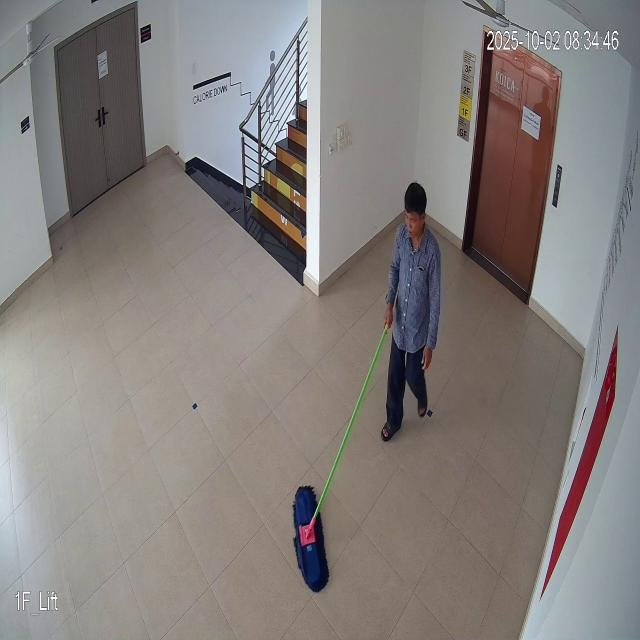face: (400, 182, 429, 242)
